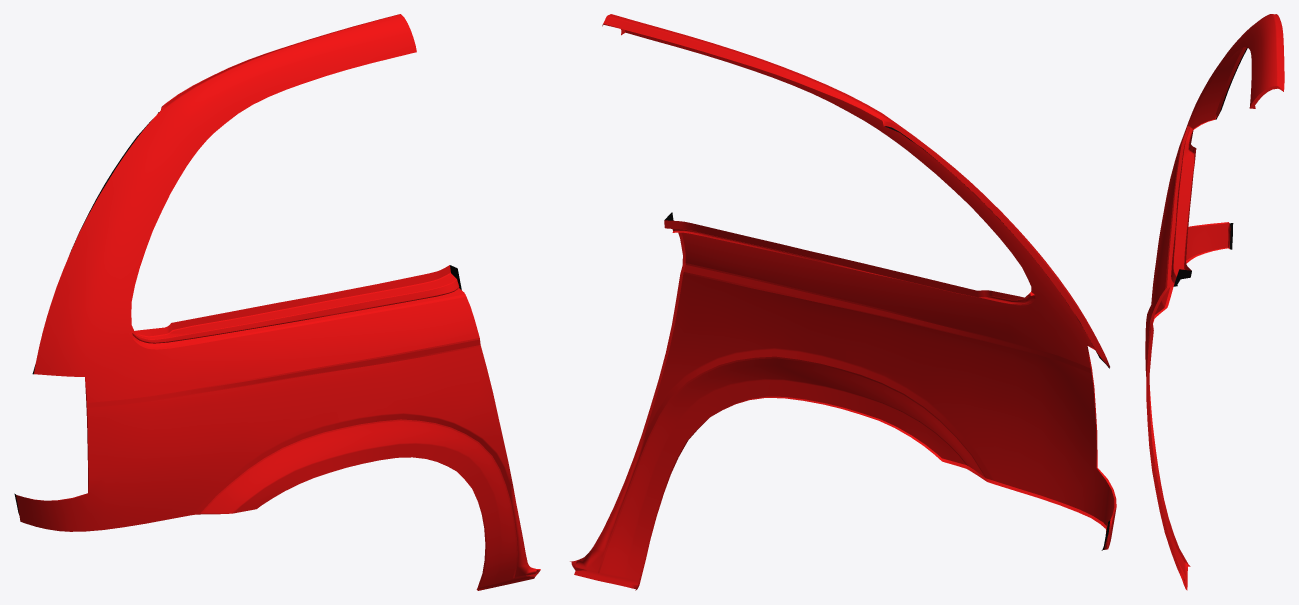
3 renders of one model, left to right at view 1: azimuth 30°, elevation 25°; view 2: azimuth 150°, elevation 25°; view 3: azimuth 270°, elevation 25°, orthographic. The views are drawn at different scales.
Visible parts, largest first — view 1: N664_9A_401B_R_1_DaS_N664_9A_401B_R, N664_9A_401B_R_1_DaS_N664_9A_401B_R_E; view 2: N664_9A_401B_R_1_DaS_N664_9A_401B_R, N664_9A_401B_R_1_DaS_N664_9A_401B_R_E; view 3: N664_9A_401B_R_1_DaS_N664_9A_401B_R, N664_9A_401B_R_1_DaS_N664_9A_401B_R_E, N664_9A_401B_R_N664_9A_401B_R_2_D.
Part boxes in pixels (x1,y1,x2,y2): N664_9A_401B_R_1_DaS_N664_9A_401B_R: (16,14,540,589); N664_9A_401B_R_1_DaS_N664_9A_401B_R_E: (16,25,540,590); N664_9A_401B_R_1_DaS_N664_9A_401B_R: (571,14,1116,586); N664_9A_401B_R_1_DaS_N664_9A_401B_R_E: (570,24,1116,590); N664_9A_401B_R_1_DaS_N664_9A_401B_R: (1145,14,1283,587); N664_9A_401B_R_1_DaS_N664_9A_401B_R_E: (1146,14,1284,590); N664_9A_401B_R_N664_9A_401B_R_2_D: (1173,47,1247,286).
Size of the model in its own units: 133 by 139 by 37.28.
